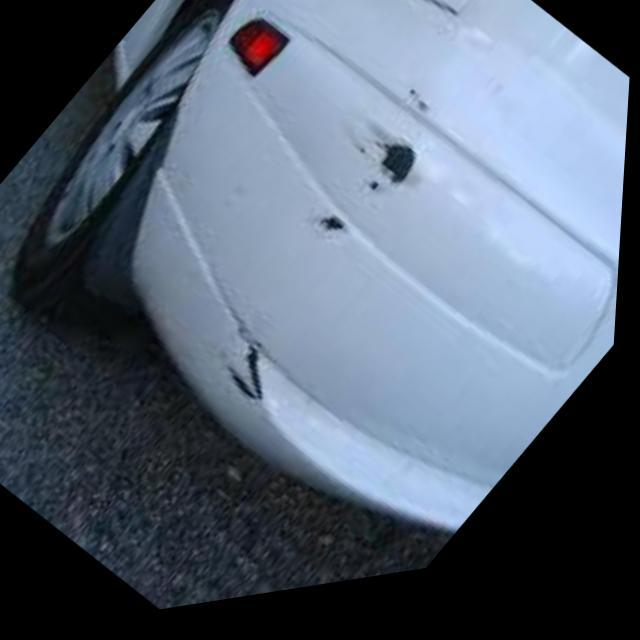rub: (296, 99, 439, 259)
scratch: (213, 335, 276, 410)
